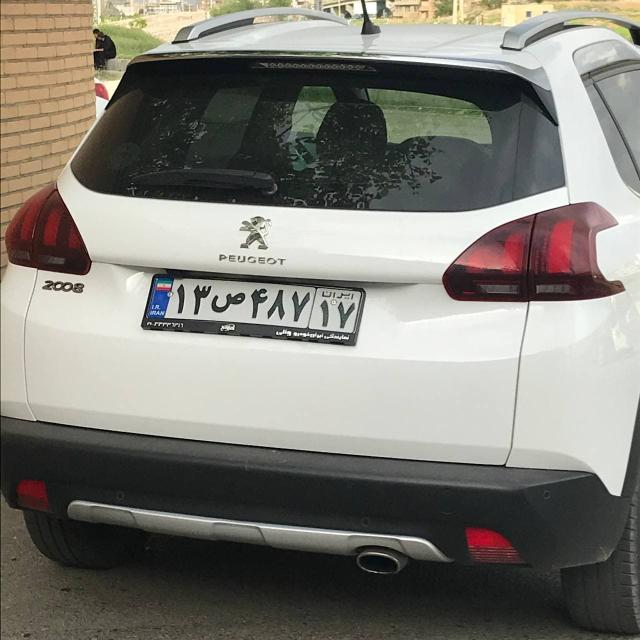Plates: (146, 276, 363, 334)
